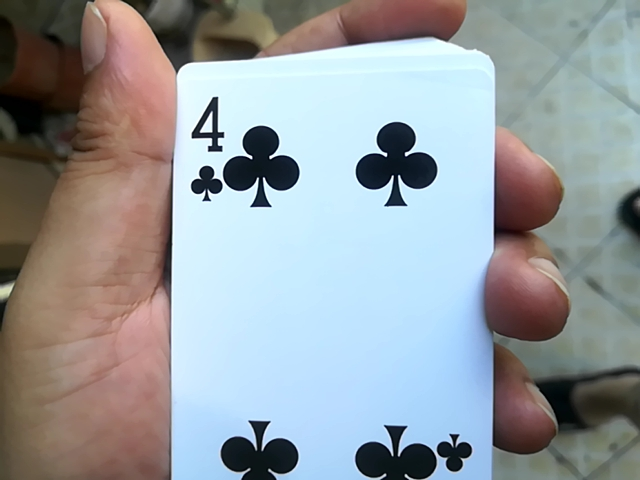mh 4: (157, 40, 483, 479)
